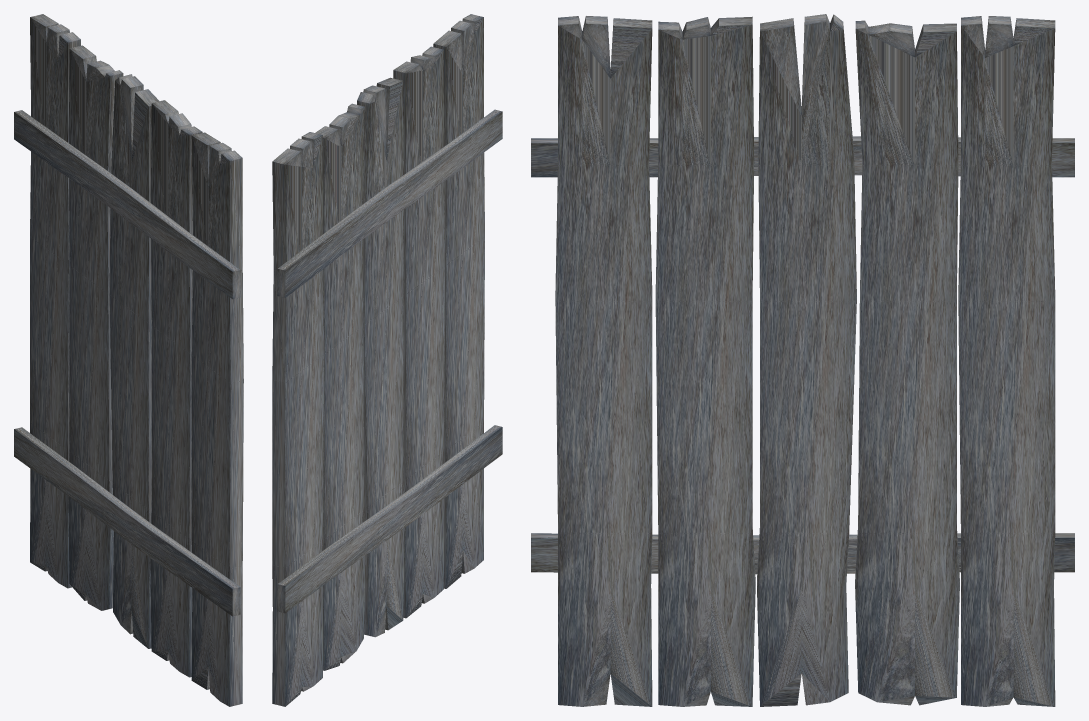
File: fence2.gltf
3 renders of one model, left to right at view 1: azimuth 30°, elevation 25°; view 2: azimuth 150°, elevation 25°; view 3: azimuth 270°, elevation 25°, orthographic. The views are drawn at different scales.
Visible parts, largest first — view 1: fence; view 2: fence; view 3: fence.
Part boxes in pixels (x1,y1,x2,y2): fence: [14, 14, 243, 706]; fence: [272, 14, 502, 706]; fence: [531, 14, 1074, 706].
Bounding box in the file's own units: 8 × 200 × 144.
1 material, 1 textured.
